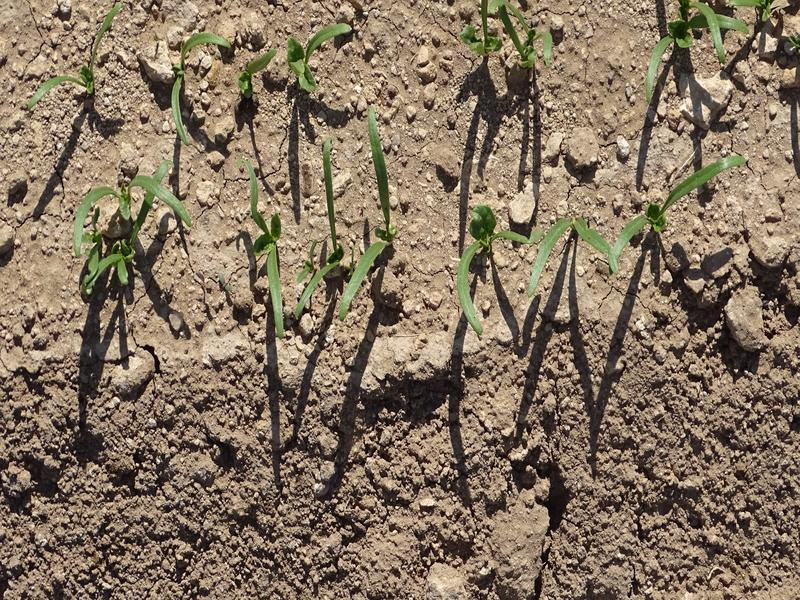Espinaca: (75, 157, 746, 320), (638, 2, 771, 101), (26, 4, 123, 111), (250, 17, 352, 96), (459, 3, 557, 72), (171, 32, 228, 145)
